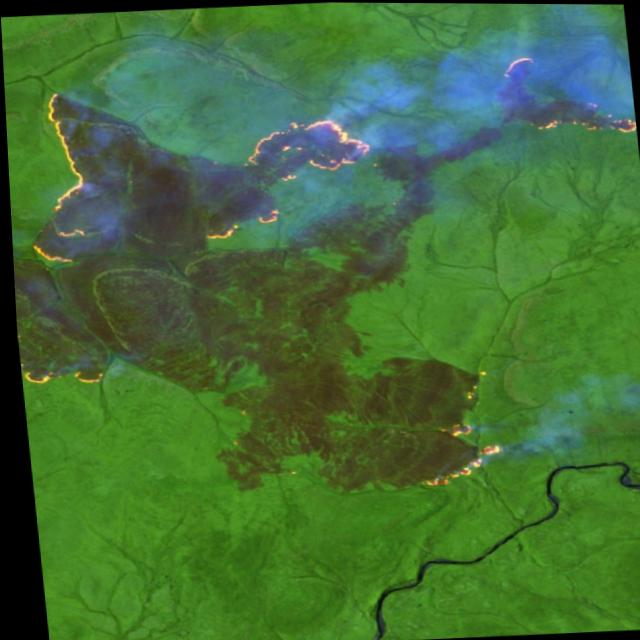fire: (12, 83, 101, 269), (238, 109, 377, 187), (408, 413, 509, 488), (517, 91, 636, 141), (192, 199, 289, 243), (17, 357, 114, 392), (486, 45, 540, 83)
